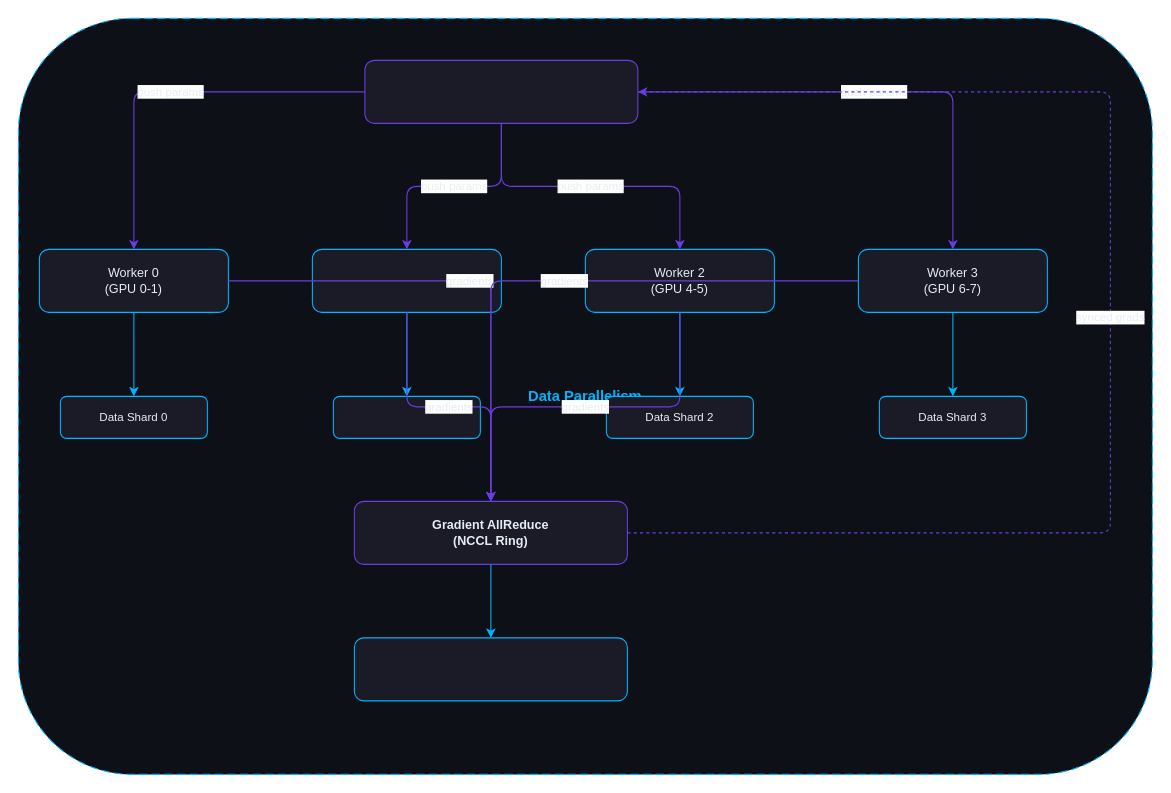
The diagram is 1171 pixels wide and 793 high, and some of its shapes have lost their labels. The centre of each missing label's shape, as x and y in pixels:
Checkpoint Storage (S3 / NFS): point (490, 669)
Data Shard 1: point (406, 416)
Parameter Server (Global Gradient Sync): point (501, 91)
Worker 1 (GPU 2-3): point (406, 280)
